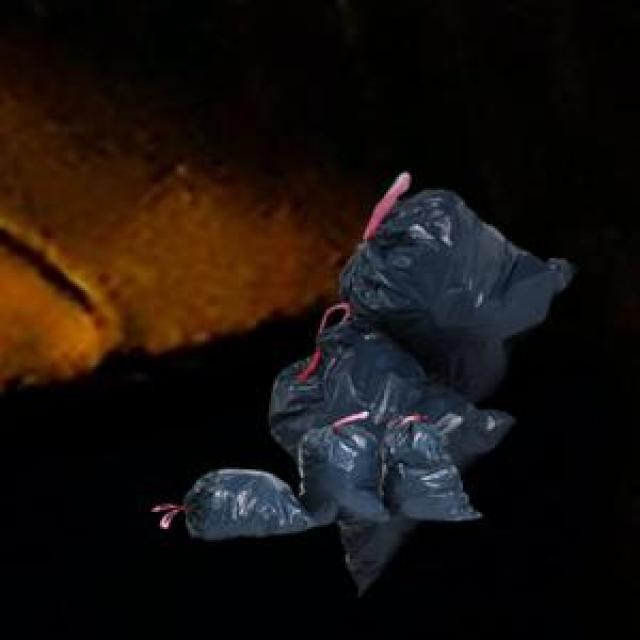Trashbag: (340, 180, 570, 393), (184, 461, 300, 543), (392, 415, 468, 527), (307, 416, 384, 526)
